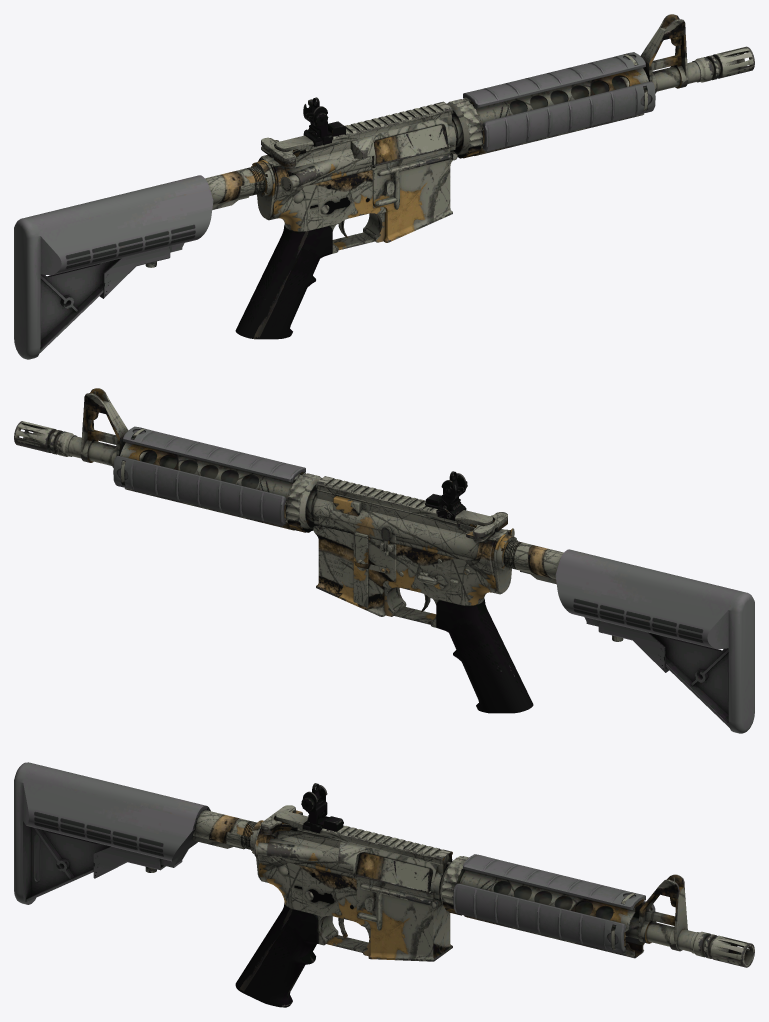
File: Carbinerifle_hunter.glb
3 views of the same model, one above another, from view 1: azimuth 30°, elevation 25°; view 2: azimuth 150°, elevation 25°; view 3: azimuth 330°, elevation 25° (orthographic).
Parts seen in each view (by area): view 1: Gun_Root; view 2: Gun_Root; view 3: Gun_Root.
Part boxes in pixels (x1,y1,x2,y2): Gun_Root: (14, 14, 754, 359); Gun_Root: (14, 388, 754, 733); Gun_Root: (14, 762, 754, 1007).
Bounding box in the file's own units: 0.7249 × 0.2179 × 0.0623.
1 material, 1 textured.
